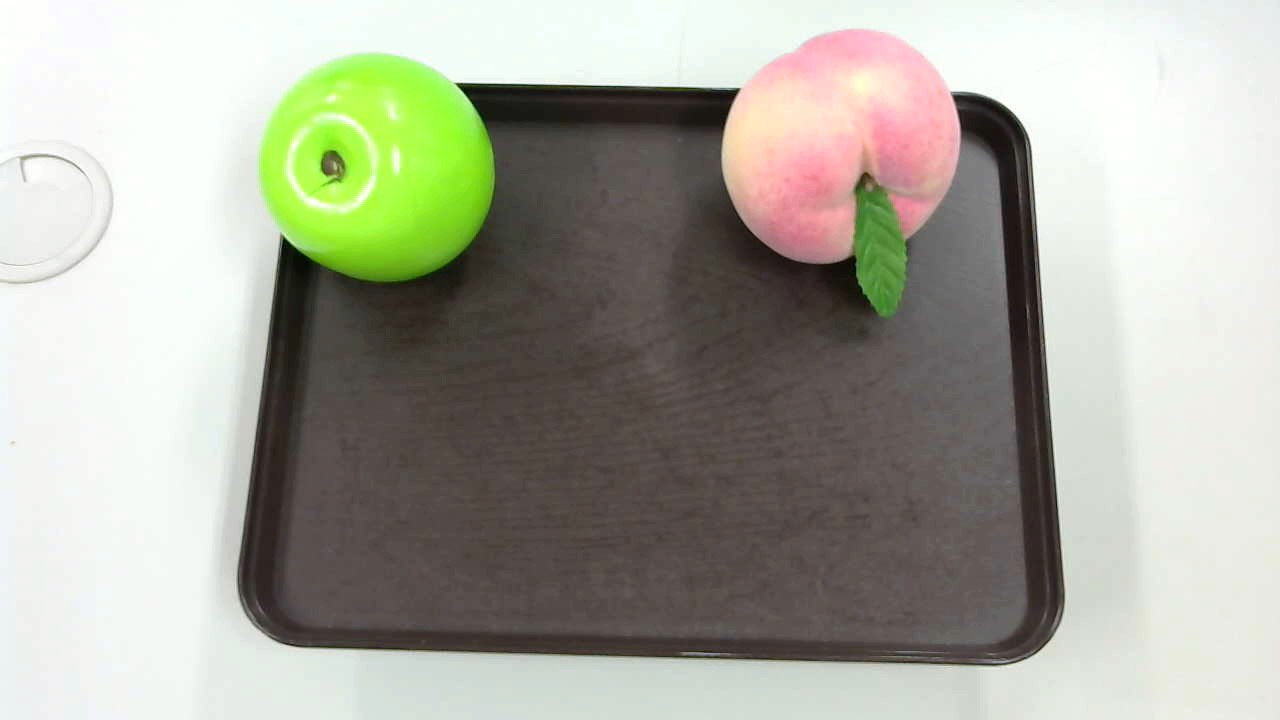green apple: (261, 49, 495, 283)
peach: (707, 25, 972, 320)
